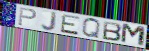B: (102, 20, 123, 42)
E: (60, 14, 81, 36)
J: (40, 11, 59, 32)
M: (120, 23, 147, 48)
P: (18, 7, 38, 27)
Q: (82, 18, 102, 40)
